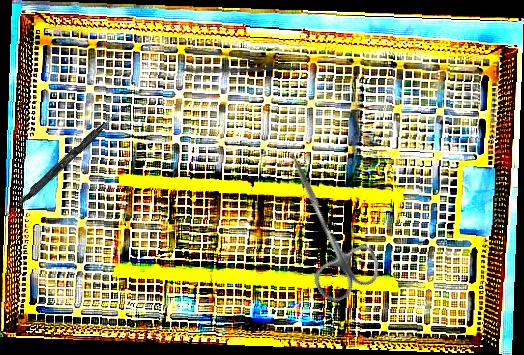Dressing Forceps: (180, 45, 297, 91)
Iris Scissors: (258, 138, 387, 308)
Spatula Surgical: (3, 98, 131, 222)
